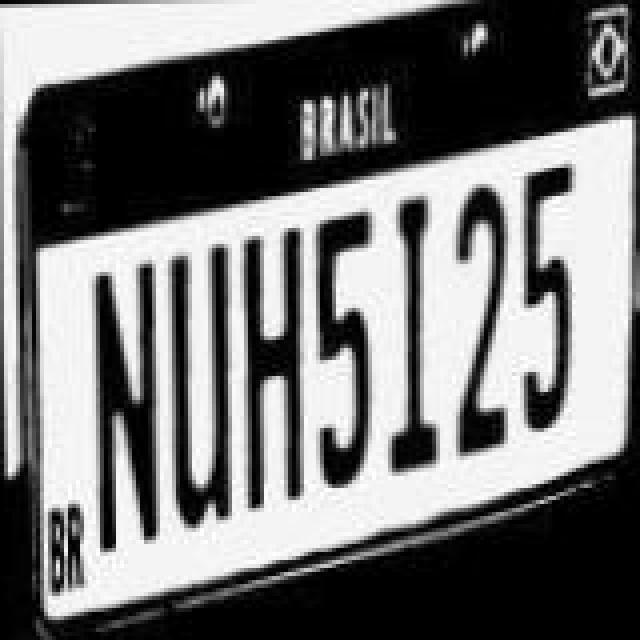2: (444, 166, 520, 450)
5: (310, 194, 382, 478), (520, 152, 588, 420)
H: (236, 212, 312, 500)
I: (380, 178, 448, 466)
N: (90, 252, 166, 560)
U: (162, 230, 238, 530)
